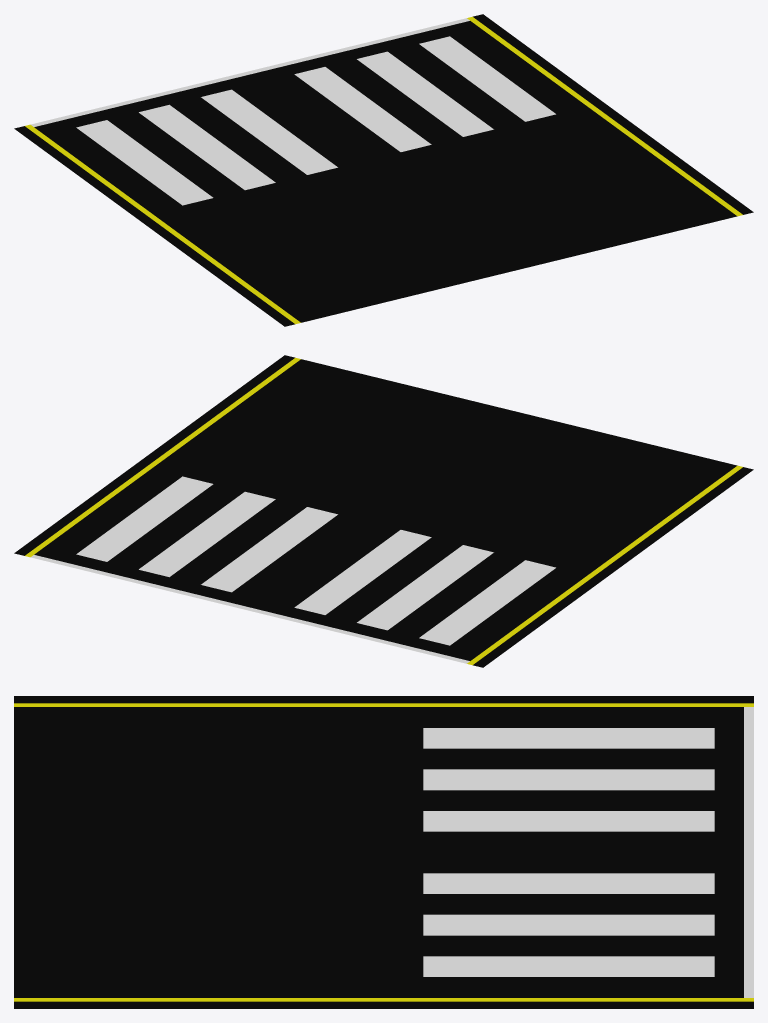
Rendered from Road.fbx.
The picture shows the model from 3 angles, top to bottom: view 1: azimuth 30°, elevation 25°; view 2: azimuth 150°, elevation 25°; view 3: azimuth 270°, elevation 25°; orthographic projection. The views are drawn at different scales.
Parts seen in each view (by area): view 1: Turning.003, Turning.002; view 2: Turning.003, Turning.002; view 3: Turning.003, Turning.002.
Boxes of the visible parts, bbox=[...] form: Turning.003: bbox=[150, 113, 753, 326]; Turning.002: bbox=[14, 14, 617, 227]; Turning.003: bbox=[150, 355, 753, 568]; Turning.002: bbox=[14, 454, 617, 667]; Turning.003: bbox=[14, 696, 383, 1008]; Turning.002: bbox=[384, 696, 753, 1008].
Bounding box in the file's own units: 800 × 0.000135 × 800.
